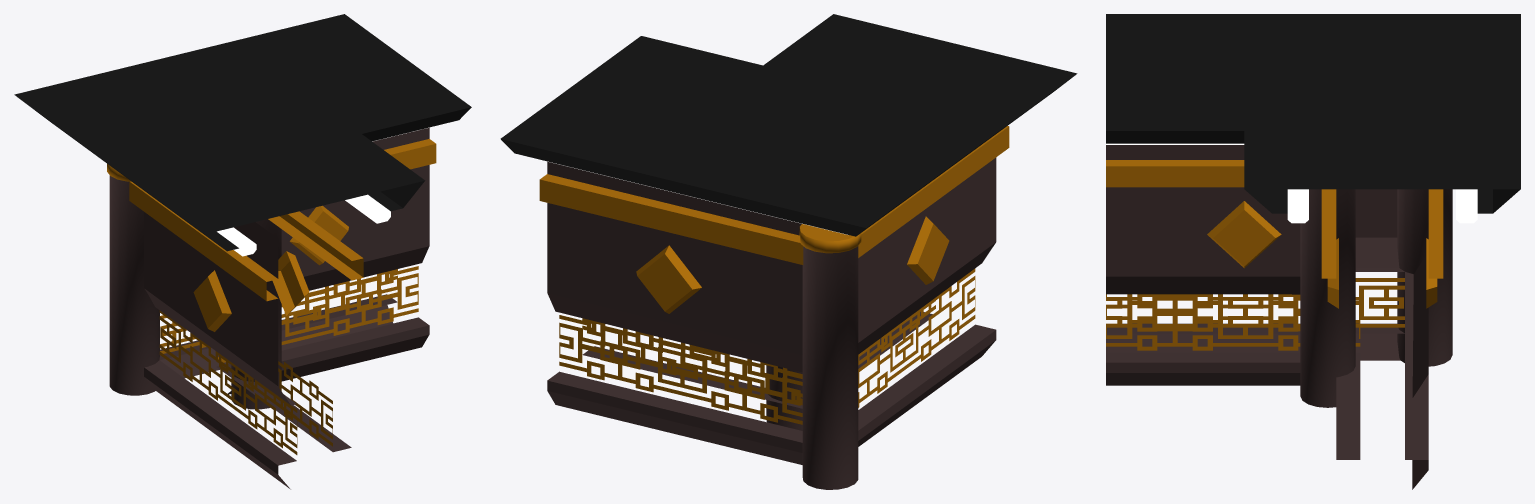
File: Bar Counter Corner.fbx
3 views of the same model, side by side, from view 1: azimuth 30°, elevation 25°; view 2: azimuth 150°, elevation 25°; view 3: azimuth 270°, elevation 25° (orthographic). The views are drawn at different scales.
Visible parts, largest first — view 1: Bar Counter Corner; view 2: Bar Counter Corner; view 3: Bar Counter Corner.
Part boxes in pixels (<box>): Bar Counter Corner: <box>14,14,471,489</box>; Bar Counter Corner: <box>500,14,1077,489</box>; Bar Counter Corner: <box>1106,14,1520,489</box>.
Size of the model in its own units: 150 by 120 by 150.
